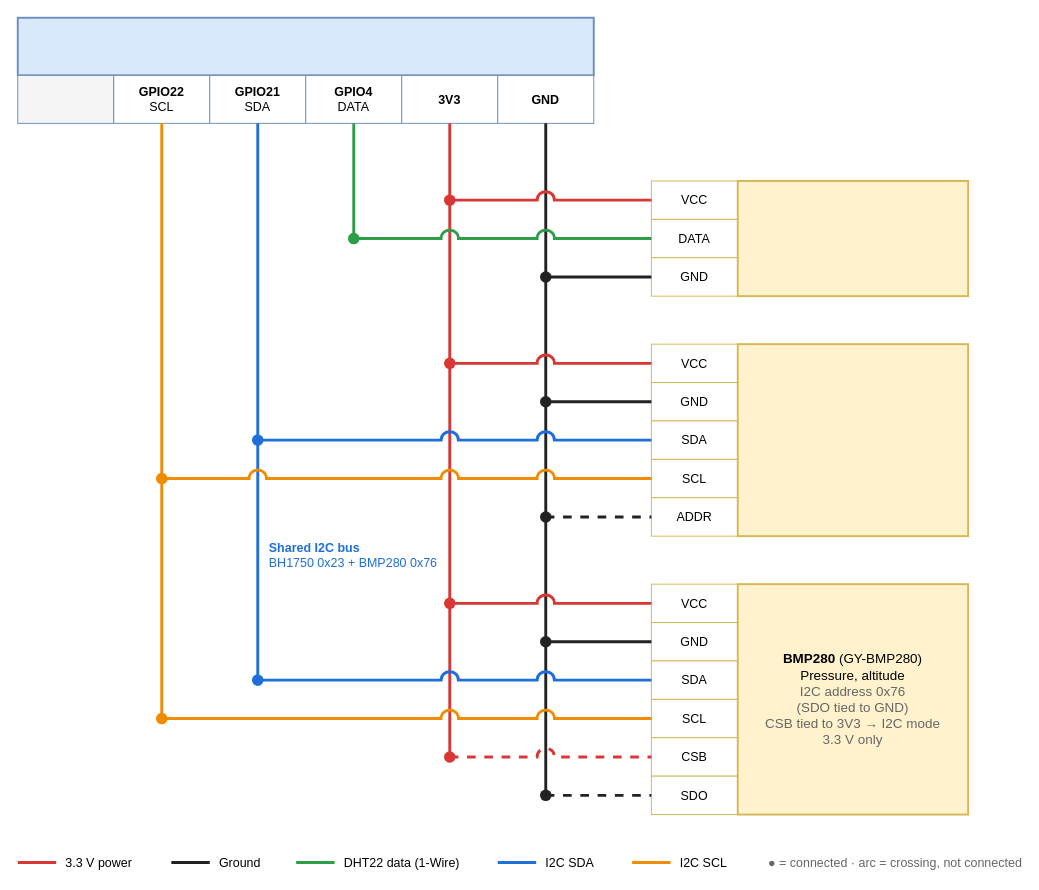
Some shapes in this 1039 by 890 pixel diagram are drawn without their labels. Each missing label, with the centre of its shape:
"BH1750 (GY-302) Light intensity I2C address 0x23 (ADDR tied to GND)" belongs at pixel 852 440.
"DHT22 Temperature, humidity 1-Wire" belongs at pixel 852 238.
"ESP32 DevKit V1 (ESP32-WROOM-32) · MicroPython" belongs at pixel 305 46.
"GPIO2 LED onboard" belongs at pixel 65 98.
